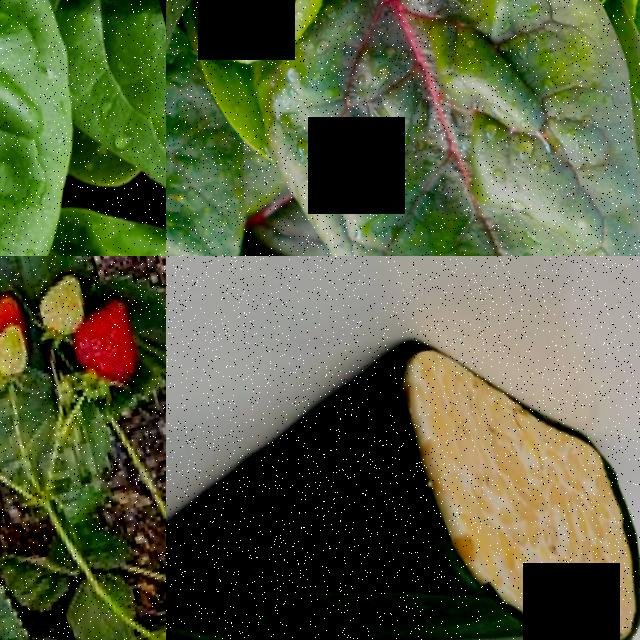spinach: (254, 0, 640, 256), (0, 0, 113, 256), (166, 70, 271, 256)
strawberry: (80, 295, 144, 391), (27, 269, 87, 339)
tempeh: (400, 323, 640, 640)
